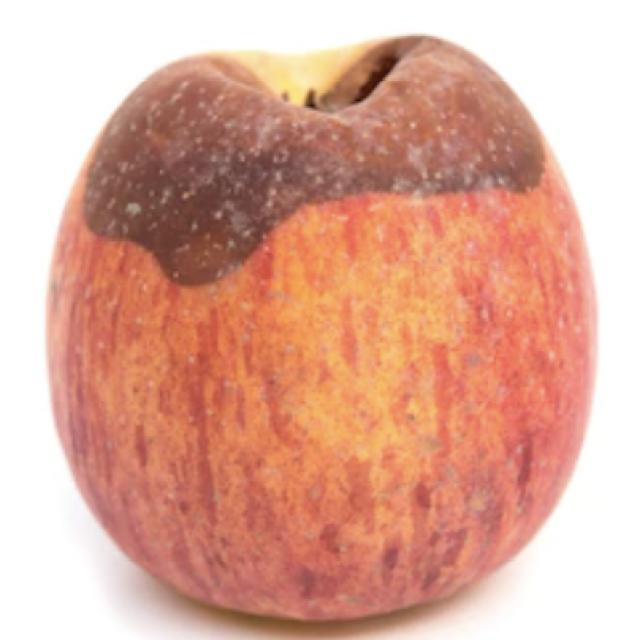rotten_apple: (44, 33, 598, 623)
